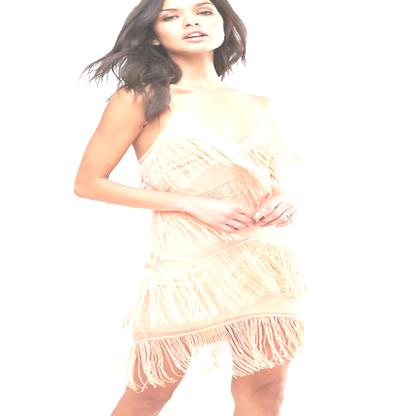jacket: (119, 76, 315, 396)
